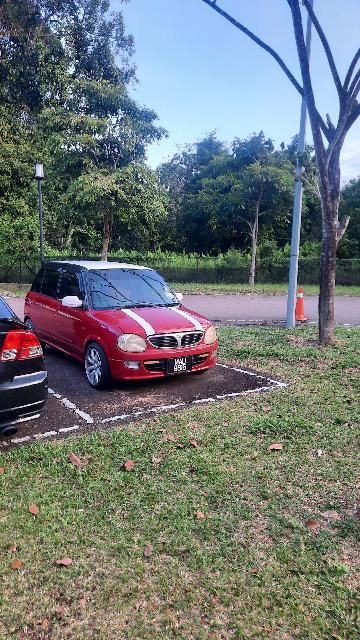License_Plate: (167, 357, 197, 375)
car: (23, 260, 235, 391)
